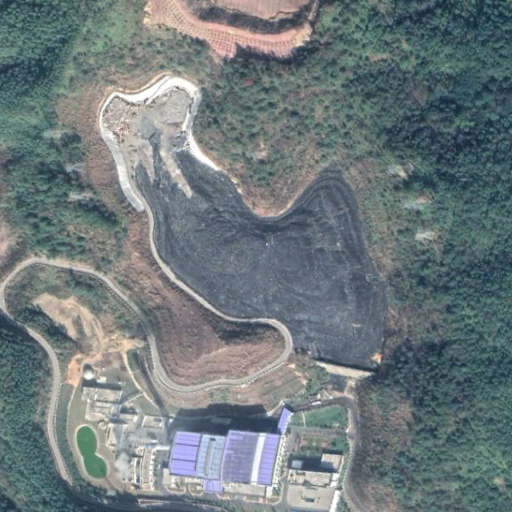lf: (97, 77, 383, 375)
